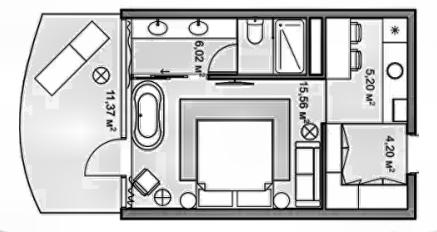door: (81, 134, 130, 179)
window: (116, 16, 131, 134)
